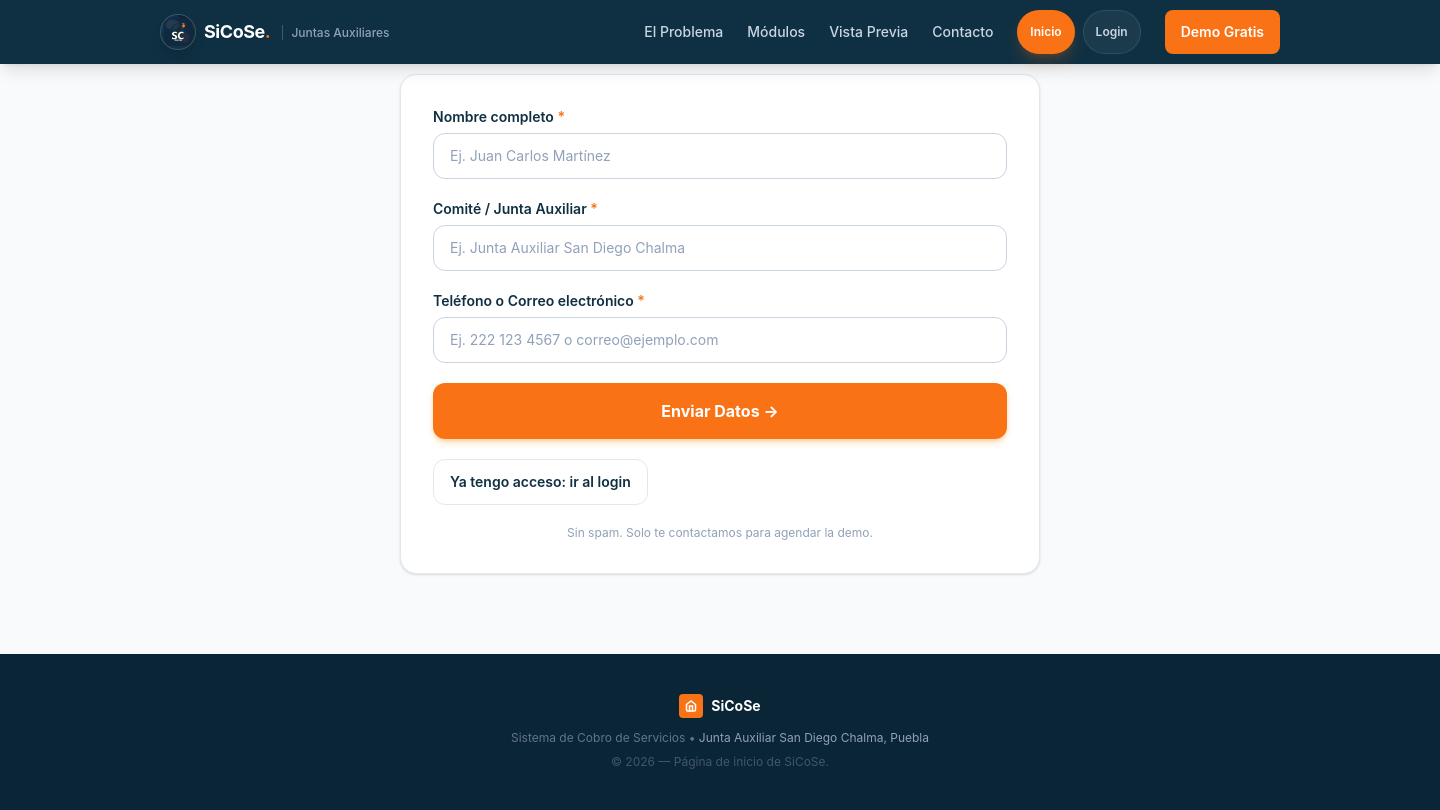
Scenario: LandingPage › shows validation feedback when the contact form is submitted empty
This screenshot has width=1440, height=810.
(page scrolled)
Click the button "Enviar Datos →".
click(720, 411)  # box [433,383,1007,439]
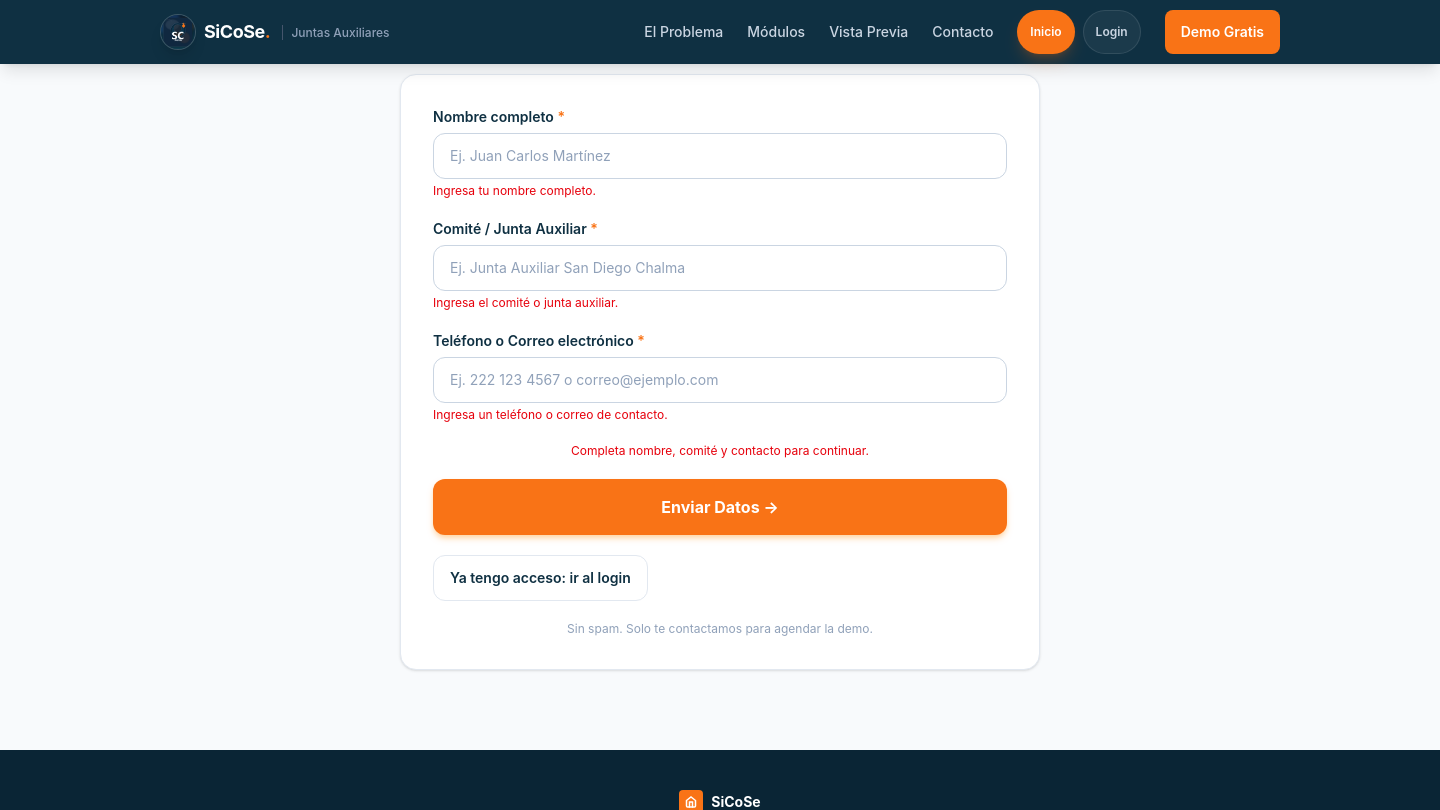
Result: the text "Completa nombre, comité y contacto para continuar." is shown at [571,443,869,458]
